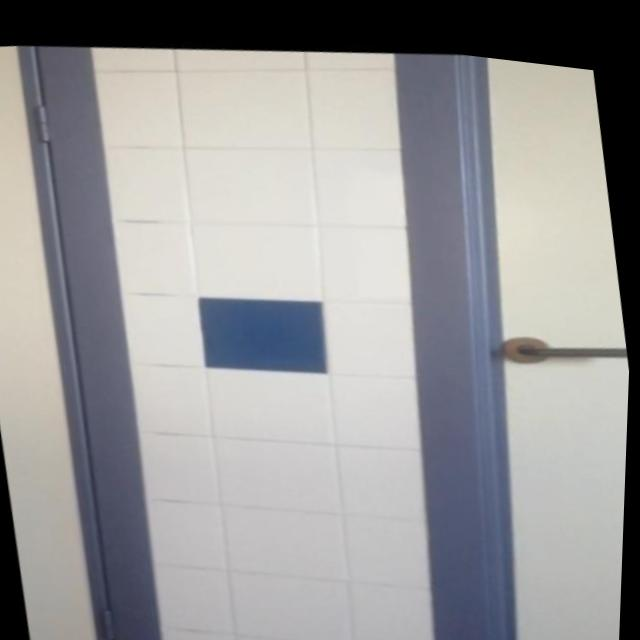door_handle: (510, 304, 630, 355)
